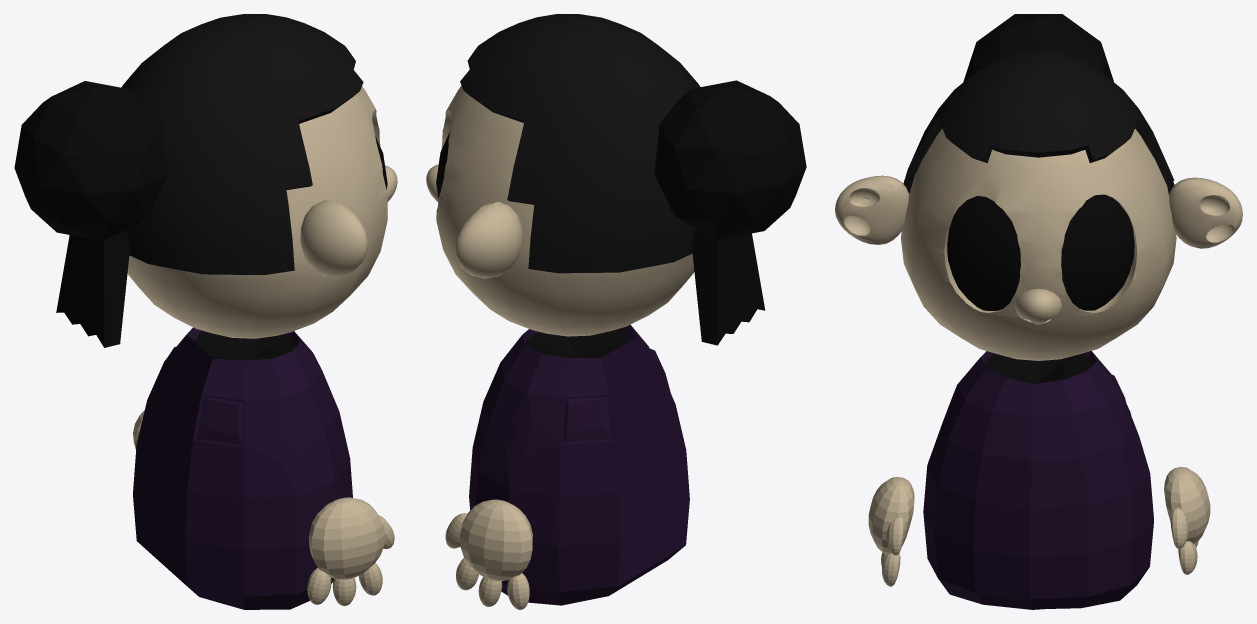
Rendered from xristos lowpoly blend.fbx.
3 renders of one model, left to right at view 1: azimuth 30°, elevation 25°; view 2: azimuth 150°, elevation 25°; view 3: azimuth 270°, elevation 25°, orthographic. The views are drawn at different scales.
Parts seen in each view (by area): view 1: Sphere.001, Sphere, Icosphere, Cube, Sphere.009, Sphere.023, Sphere.016, Sphere.017, Sphere.018; view 2: Sphere.001, Sphere, Icosphere, Cube, Sphere.008, Sphere.022, Sphere.014, Sphere.013; view 3: Sphere.001, Sphere, Sphere.019, Icosphere, Sphere.022, Sphere.023, Sphere.008, Sphere.009, Sphere.024, Sphere.011, Sphere.015.
Part boxes in pixels (bbox=[...]): Sphere.001: bbox=[121, 14, 387, 338]; Sphere: bbox=[133, 327, 352, 609]; Icosphere: bbox=[14, 81, 167, 240]; Cube: bbox=[56, 230, 129, 347]; Sphere.009: bbox=[309, 497, 385, 579]; Sphere.023: bbox=[300, 200, 367, 277]; Sphere.016: bbox=[307, 568, 331, 604]; Sphere.017: bbox=[332, 577, 356, 606]; Sphere.018: bbox=[358, 563, 382, 595]; Sphere.001: bbox=[436, 14, 700, 336]; Sphere: bbox=[469, 324, 689, 605]; Icosphere: bbox=[654, 80, 806, 239]; Cube: bbox=[692, 228, 765, 345]; Sphere.008: bbox=[460, 499, 532, 581]; Sphere.022: bbox=[455, 202, 522, 278]; Sphere.014: bbox=[507, 573, 529, 609]; Sphere.013: bbox=[478, 577, 502, 606]; Sphere.001: bbox=[901, 50, 1176, 360]; Sphere: bbox=[923, 351, 1153, 609]; Sphere.019: bbox=[947, 194, 1134, 310]; Icosphere: bbox=[963, 14, 1113, 81]; Sphere.022: bbox=[1169, 177, 1242, 248]; Sphere.023: bbox=[835, 175, 909, 244]; Sphere.008: bbox=[1164, 467, 1210, 544]; Sphere.009: bbox=[868, 477, 914, 554]; Sphere.024: bbox=[1015, 289, 1062, 324]; Sphere.011: bbox=[1170, 507, 1188, 548]; Sphere.015: bbox=[886, 517, 905, 555].
Size of the model in its own units: 164 by 232 by 165.
